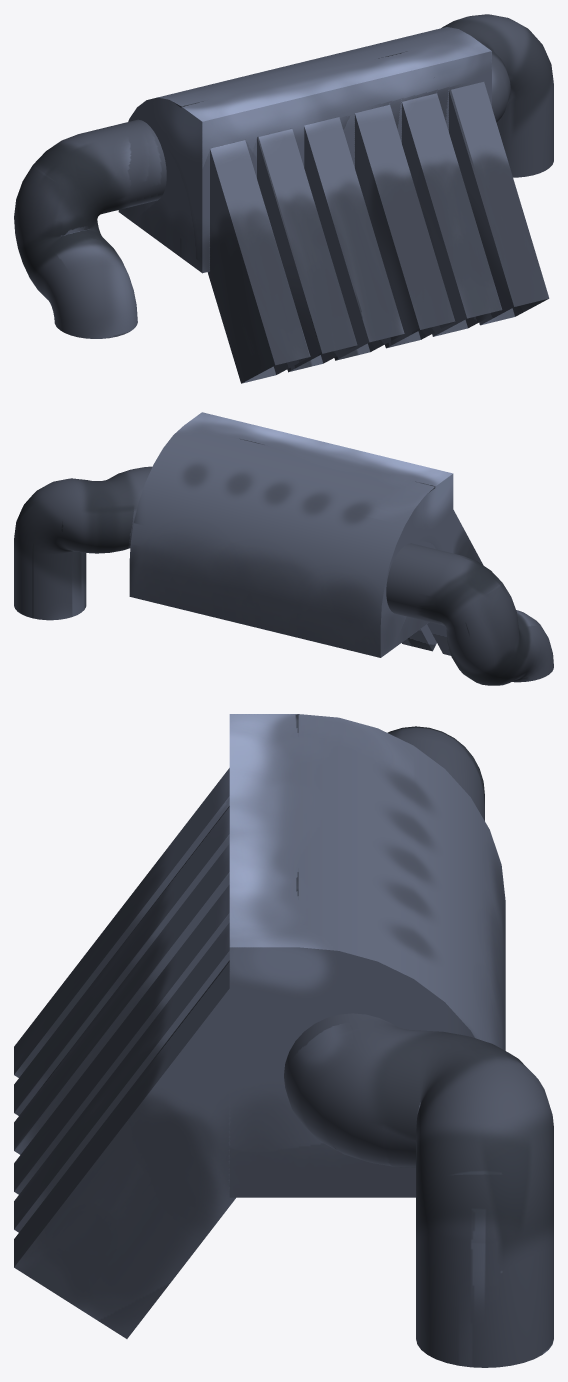
File: hydroelectric.fbx
3 views of the same model, one above another, from view 1: azimuth 30°, elevation 25°; view 2: azimuth 150°, elevation 25°; view 3: azimuth 270°, elevation 25° (orthographic). The views are drawn at different scales.
Parts seen in each view (by area): view 1: Cylinder; view 2: Cylinder; view 3: Cylinder.
Part boxes in pixels (bbox=[...]): Cylinder: bbox=[14, 14, 553, 383]; Cylinder: bbox=[14, 412, 553, 685]; Cylinder: bbox=[14, 714, 553, 1367].
Size of the model in its own units: 1519 by 637 by 783.
1 material, 1 textured.
